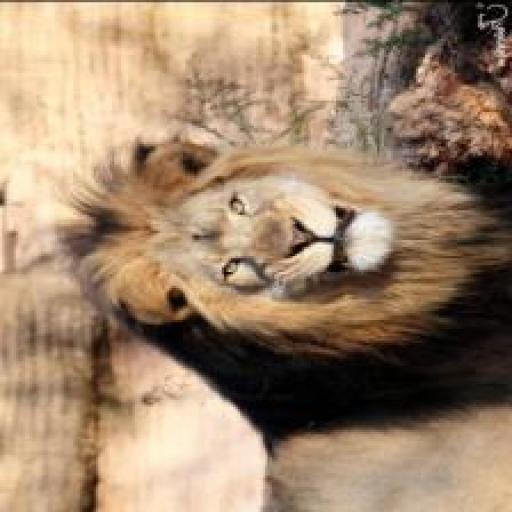lion: (41, 126, 512, 511)
